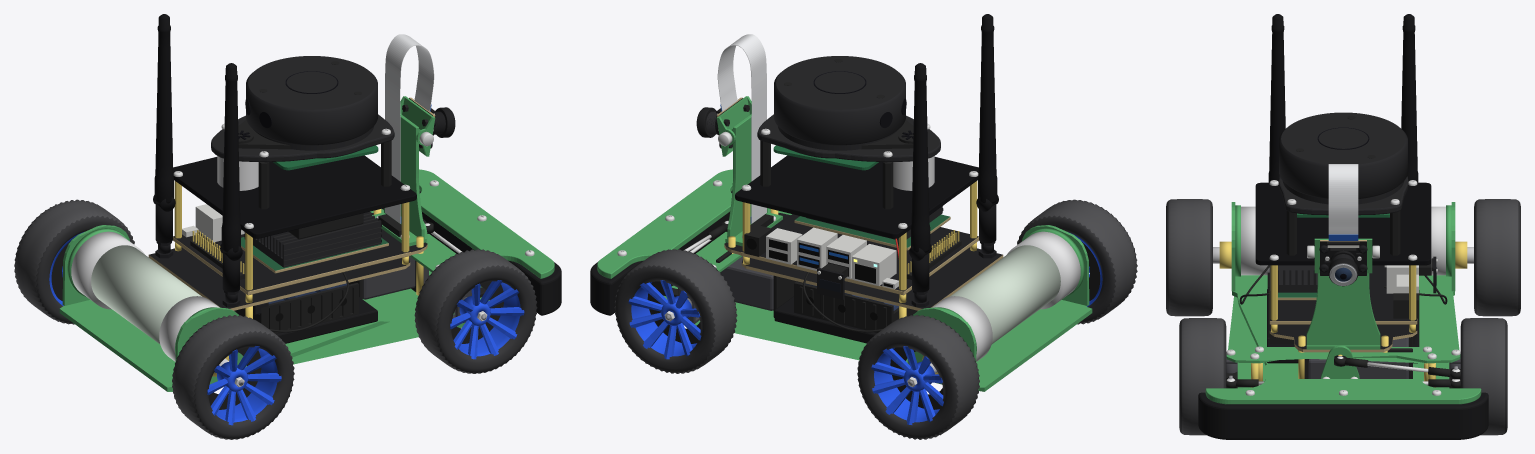
Rendered from sim2real-JetRacer-v1.fbx.
3 renders of one model, left to right at view 1: azimuth 30°, elevation 25°; view 2: azimuth 150°, elevation 25°; view 3: azimuth 270°, elevation 25°, orthographic. The views are drawn at different scales.
Parts seen in each view (by area): view 1: R_deck, R_lidar_head, R_chassis_plate, R_wheel_FR_tyre, R_wheel_RR_tyre, R_motor_tube, R_wheel_RL_tyre, R_bumper_plate, R_expansion_board, R_jetson_carrier, R_heatsink, R_cam_ffc (+31 smaller); view 2: R_deck, R_lidar_head, R_wheel_RL_tyre, R_wheel_FL_tyre, R_chassis_plate, R_carrier_ports, R_motor_tube, R_wheel_RR_tyre, R_bumper_plate, R_expansion_board, R_cam_ffc, R_battery_box (+30 smaller); view 3: R_bumper_foam, R_lidar_head, R_deck, R_chassis_plate, R_bumper_plate, R_wheel_RL_tyre, R_wheel_RR_tyre, R_wheel_FR_tyre, R_wheel_FL_tyre, R_cam_stand, R_front_upper_plate, R_jetson_carrier (+29 smaller).
Part boxes in pixels (x1=…): R_deck: x1=173, y1=155, x2=416, y2=238; R_lidar_head: x1=246, y1=56, x2=377, y2=145; R_chassis_plate: x1=59, y1=234, x2=489, y2=391; R_wheel_FR_tyre: x1=414, y1=249, x2=537, y2=373; R_wheel_RR_tyre: x1=172, y1=315, x2=294, y2=439; R_motor_tube: x1=91, y1=245, x2=201, y2=344; R_wheel_RL_tyre: x1=14, y1=199, x2=134, y2=324; R_bumper_plate: x1=419, y1=169, x2=554, y2=278; R_expansion_board: x1=148, y1=213, x2=427, y2=310; R_jetson_carrier: x1=173, y1=231, x2=410, y2=295; R_heatsink: x1=244, y1=212, x2=381, y2=267; R_cam_ffc: x1=385, y1=34, x2=434, y2=223; R_deck: x1=735, y1=155, x2=978, y2=238; R_lidar_head: x1=774, y1=56, x2=905, y2=145; R_wheel_RL_tyre: x1=857, y1=315, x2=979, y2=439; R_wheel_FL_tyre: x1=614, y1=249, x2=737, y2=373; R_chassis_plate: x1=663, y1=232, x2=1092, y2=391; R_carrier_ports: x1=744, y1=225, x2=898, y2=289; R_motor_tube: x1=950, y1=245, x2=1060, y2=344; R_wheel_RR_tyre: x1=1017, y1=199, x2=1137, y2=324; R_bumper_plate: x1=597, y1=169, x2=732, y2=278; R_expansion_board: x1=724, y1=213, x2=1003, y2=310; R_cam_ffc: x1=717, y1=34, x2=766, y2=223; R_battery_box: x1=794, y1=282, x2=916, y2=332; R_bumper_foam: x1=1198, y1=392, x2=1488, y2=439; R_lidar_head: x1=1279, y1=112, x2=1407, y2=198; R_deck: x1=1255, y1=182, x2=1431, y2=265; R_chassis_plate: x1=1228, y1=275, x2=1459, y2=388; R_bumper_plate: x1=1205, y1=379, x2=1481, y2=404; R_wheel_RL_tyre: x1=1474, y1=199, x2=1520, y2=316; R_wheel_RR_tyre: x1=1166, y1=199, x2=1212, y2=316; R_wheel_FR_tyre: x1=1179, y1=318, x2=1226, y2=435; R_wheel_FL_tyre: x1=1460, y1=318, x2=1507, y2=435; R_cam_stand: x1=1306, y1=273, x2=1380, y2=345; R_front_upper_plate: x1=1226, y1=347, x2=1460, y2=363; R_jetson_carrier: x1=1269, y1=265, x2=1417, y2=324.
Size of the model in its own units: 0.2426 by 0.189 by 0.1922.
